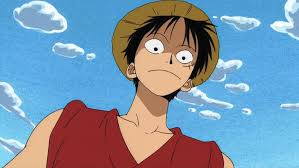luffy: (7, 2, 236, 168)
